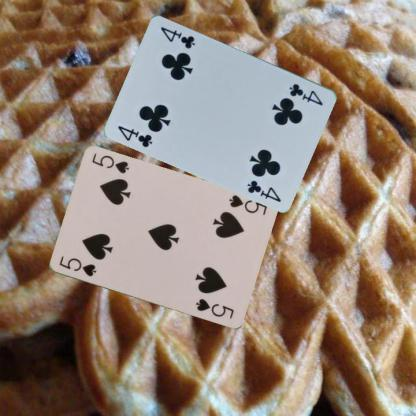4c: (286, 80, 324, 107), (116, 122, 154, 148)
5s: (226, 192, 268, 217), (56, 254, 98, 278)
